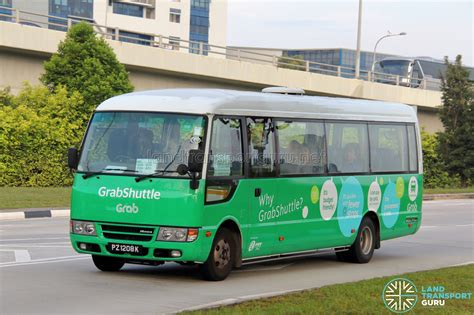bus: (68, 89, 423, 275)
